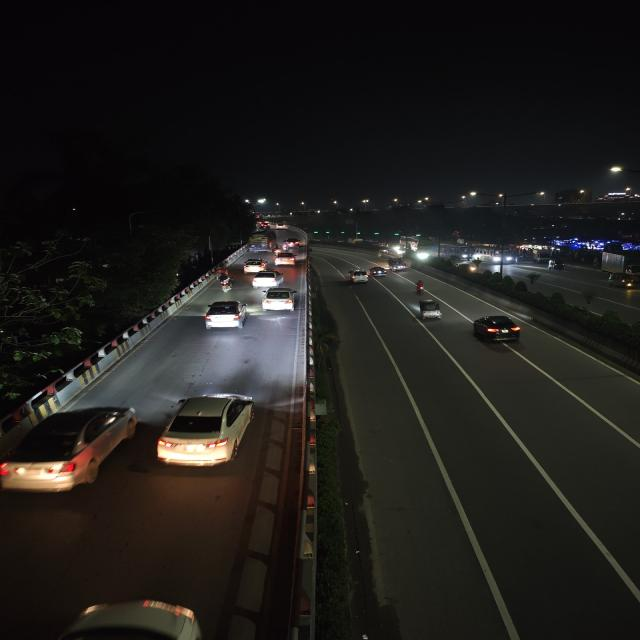bus: (403, 238, 436, 262), (480, 247, 517, 266), (442, 244, 472, 264), (246, 233, 275, 253)
car: (2, 400, 144, 498), (153, 389, 263, 473), (471, 312, 524, 346), (200, 300, 250, 333), (259, 286, 301, 314), (248, 270, 287, 286), (273, 251, 298, 267), (241, 258, 268, 272), (347, 268, 370, 284), (284, 238, 301, 250)
cng: (416, 298, 444, 322), (604, 271, 639, 289), (542, 258, 568, 272), (371, 266, 388, 277)
motorcycle: (216, 276, 235, 293), (412, 278, 428, 296)
pickup_van: (386, 258, 407, 272)
truck: (599, 248, 639, 276)
